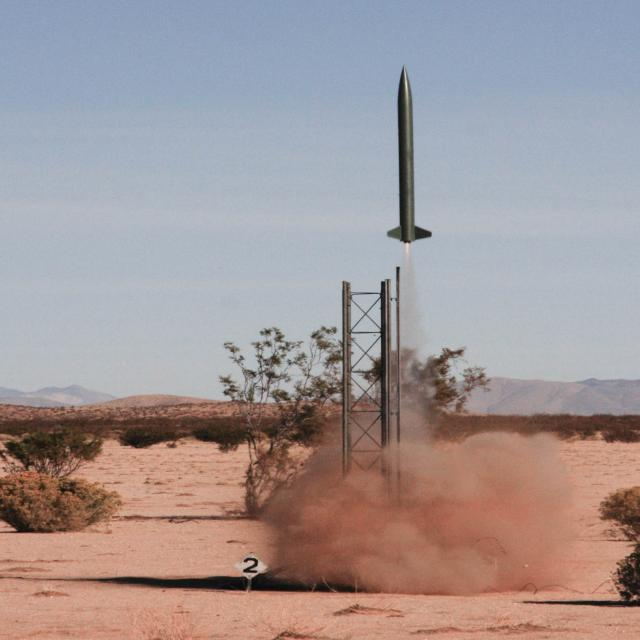Rocket: (386, 64, 434, 247)
